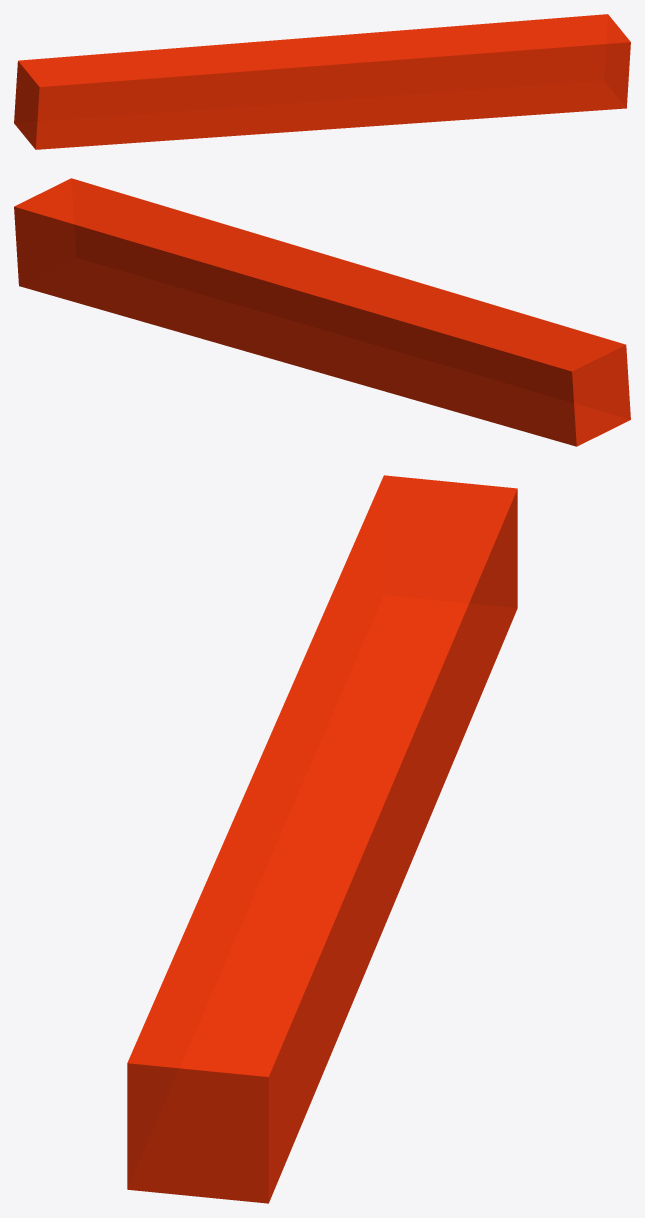
Rendered from Event_421115418_EErechit_102.fbx.
3 renders of one model, top to bottom at view 1: azimuth 30°, elevation 25°; view 2: azimuth 150°, elevation 25°; view 3: azimuth 270°, elevation 25°, orthographic. The views are drawn at different scales.
Visible parts, largest first — view 1: Model; view 2: Model; view 3: Model.
Part boxes in pixels (x1,y1,x2,y2): Model: (14, 14, 630, 149); Model: (14, 178, 630, 446); Model: (127, 475, 517, 1203).
Bounding box in the file's own units: 0.667 × 0.1206 × 0.2075.
